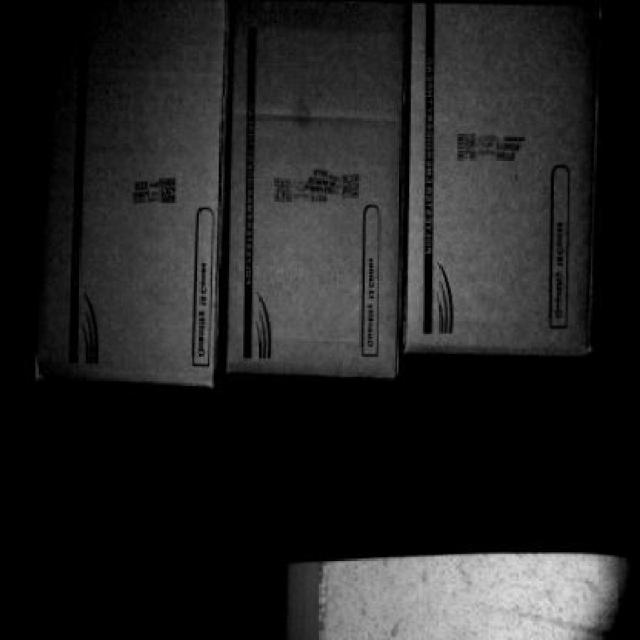cardboxes: (33, 5, 227, 377), (402, 2, 601, 363), (225, 3, 407, 375)
